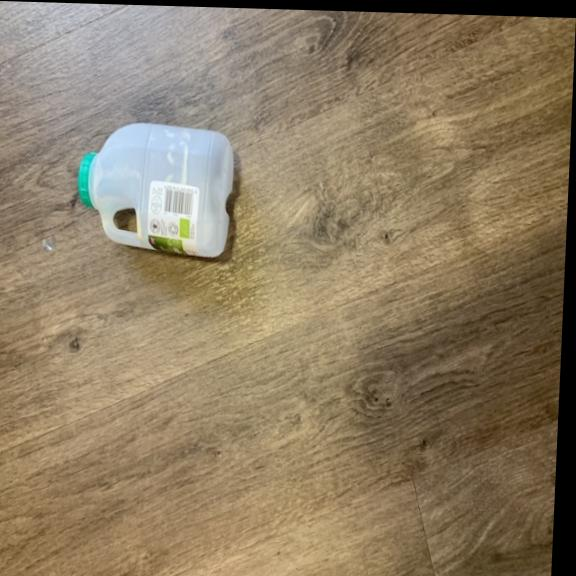Plastik: (70, 117, 240, 259)
